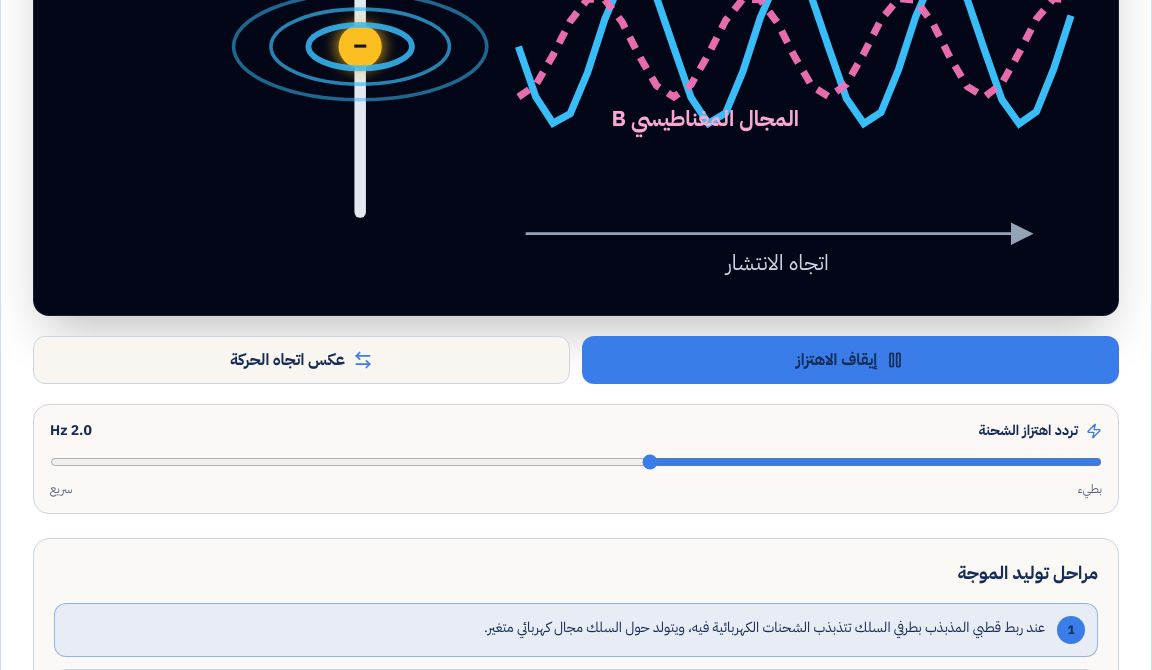
it: ElectromagneticWaveGenerationActivity › lets the student pause and reverse charge motion
This screenshot has width=1152, height=670.
Later steps or results of the test are not shown.
(page scrolled)
Step 1. Click the button "إيقاف الاهتزاز" → (850, 360), box left=582, top=336, right=1119, bottom=384
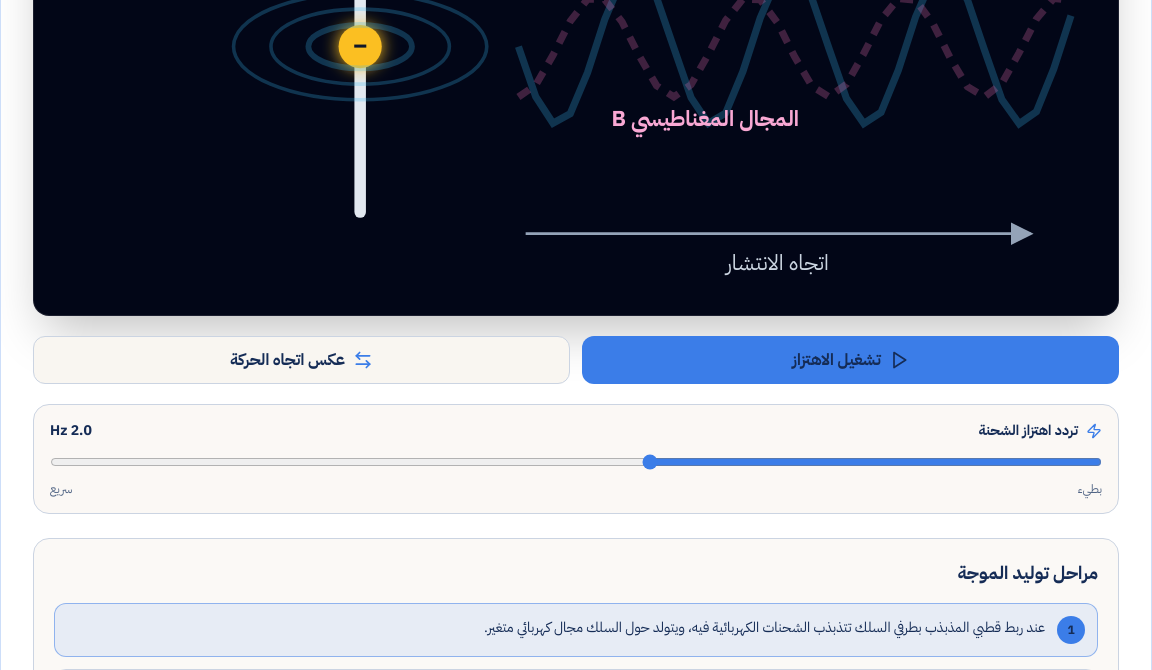
Now the button "تشغيل الاهتزاز" is shown, box left=582, top=336, right=1119, bottom=384
